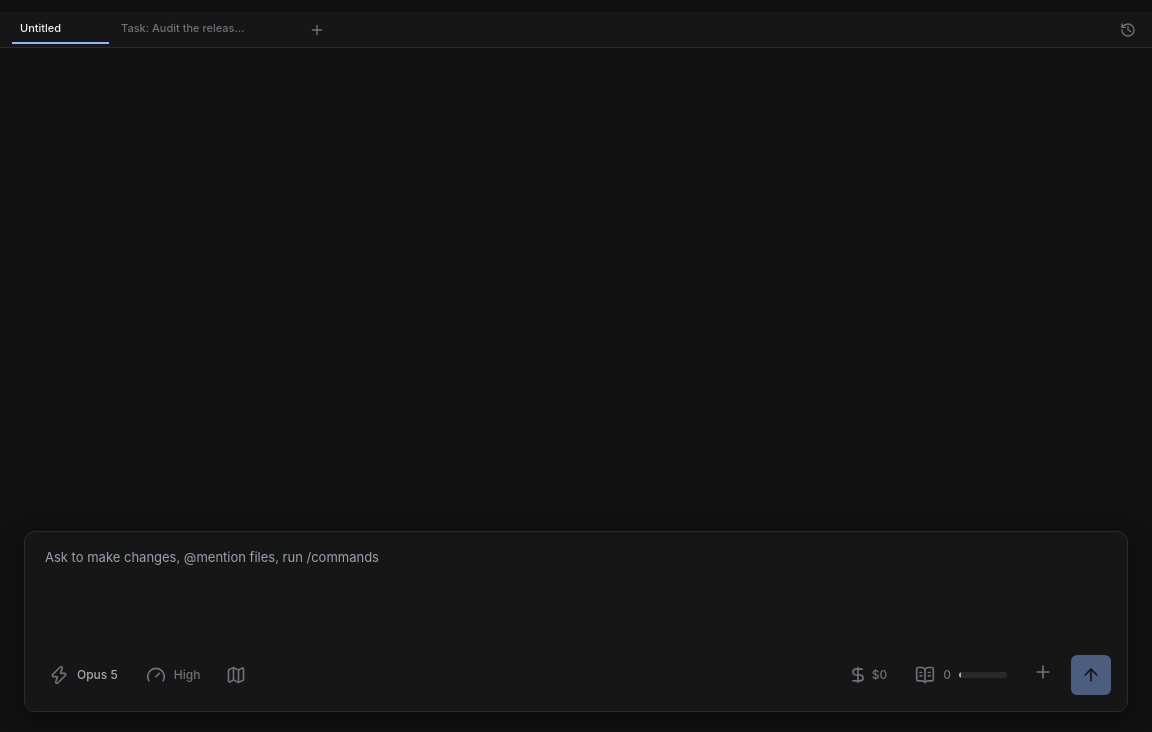
Test: ChatPanel reconstruction › restores a completed task in its own tab from persisted history
Click the button titled "Task: Audit the release workflow — double-click to rename". click: (185, 28)
box: [121, 16, 249, 42]
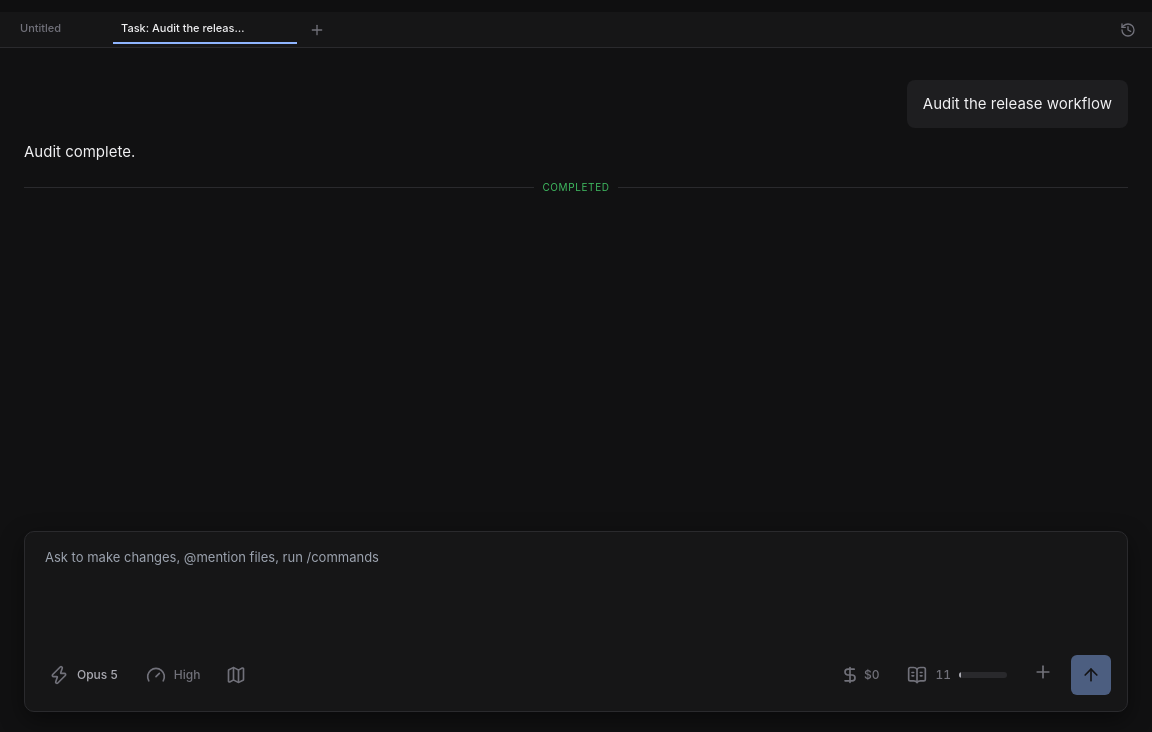
Expected: the text "Audit complete." is shown, [24, 142, 135, 161]
